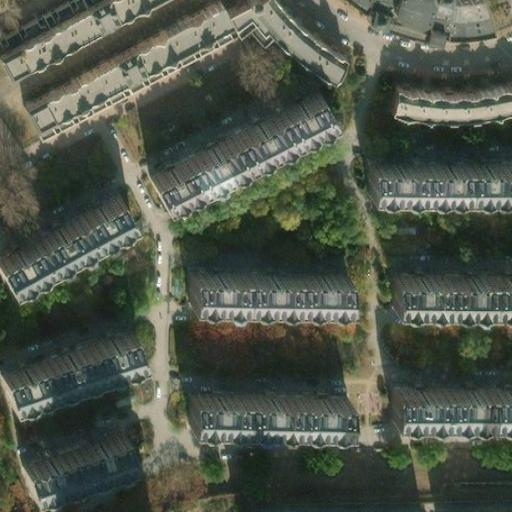building: (18, 9, 228, 136), (142, 86, 323, 200), (219, 0, 344, 83), (0, 0, 126, 63), (366, 160, 511, 205), (13, 423, 122, 481), (182, 268, 337, 303), (181, 387, 339, 420), (386, 277, 512, 312), (386, 388, 512, 423), (395, 83, 512, 119), (358, 0, 483, 33)
